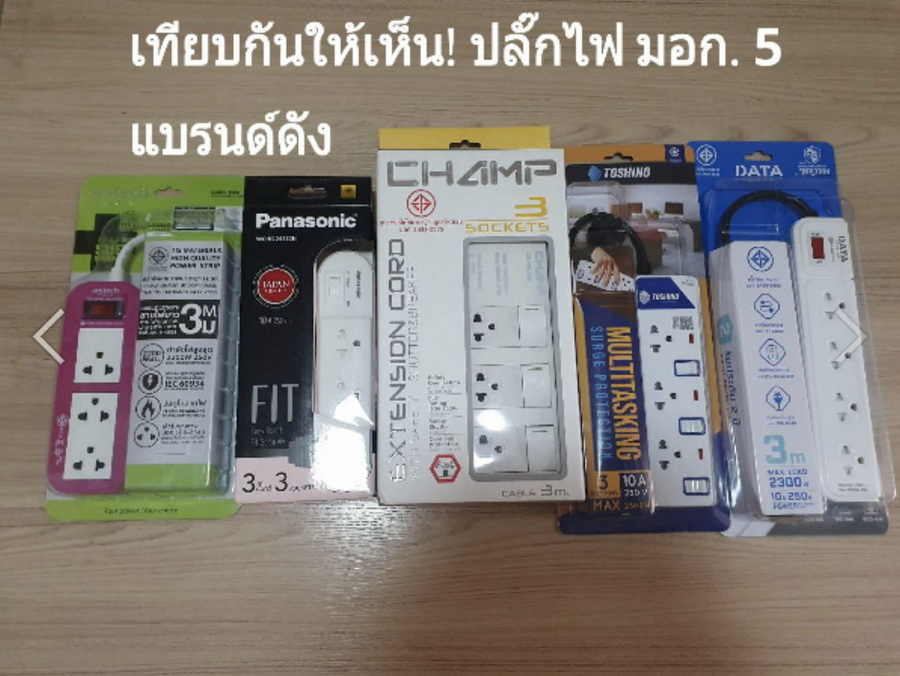Three_eye_plug: (787, 210, 894, 512), (458, 236, 570, 489), (37, 278, 145, 499), (626, 270, 719, 515), (305, 242, 376, 493)
